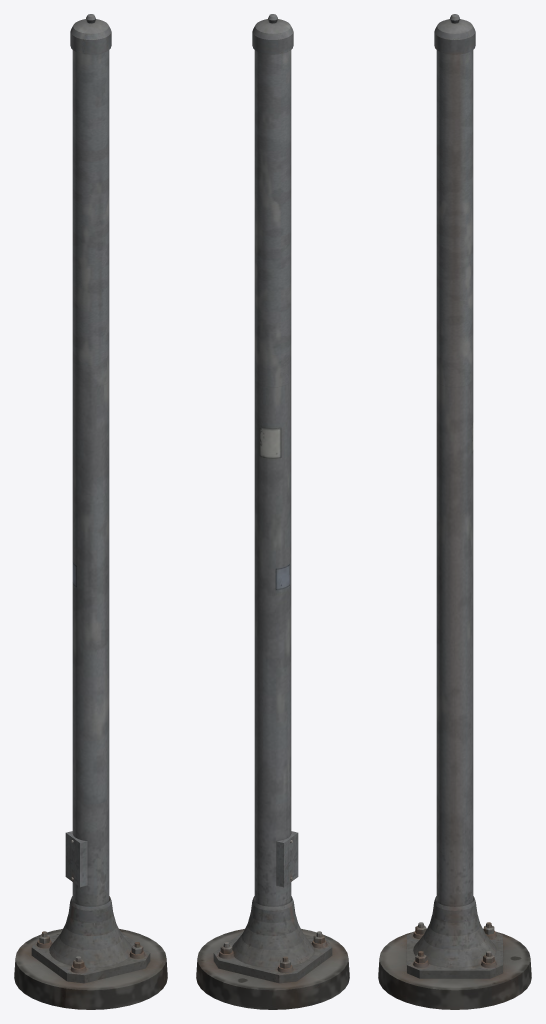
Rendered from pedPost-v1-galvanised.glb.
3 renders of one model, left to right at view 1: azimuth 30°, elevation 25°; view 2: azimuth 150°, elevation 25°; view 3: azimuth 270°, elevation 25°, orthographic.
Visible parts, largest first — view 1: pedPost-v1-galvanised; view 2: pedPost-v1-galvanised; view 3: pedPost-v1-galvanised.
Part boxes in pixels (x1,y1,x2,y2): pedPost-v1-galvanised: [14, 14, 167, 1009]; pedPost-v1-galvanised: [196, 14, 349, 1009]; pedPost-v1-galvanised: [378, 14, 531, 1009].
Bounding box in the file's own units: 0.48 × 3.32 × 0.48.
Materials: 1 (1 with a texture image).
